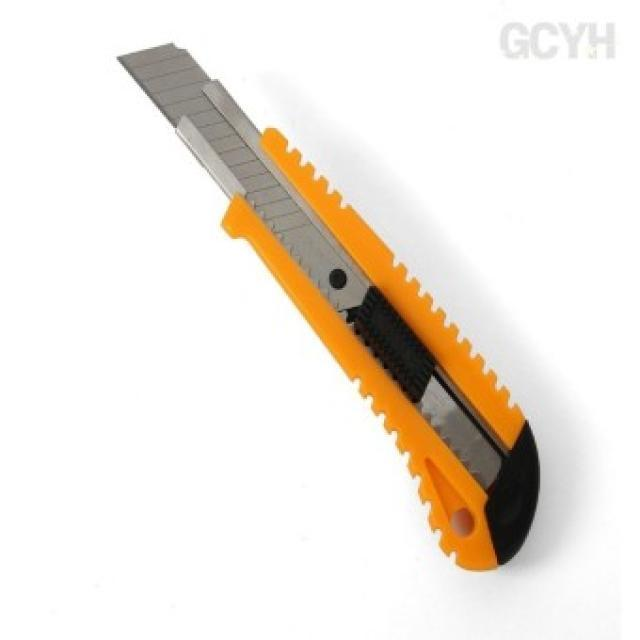cutter: (111, 29, 550, 582)
